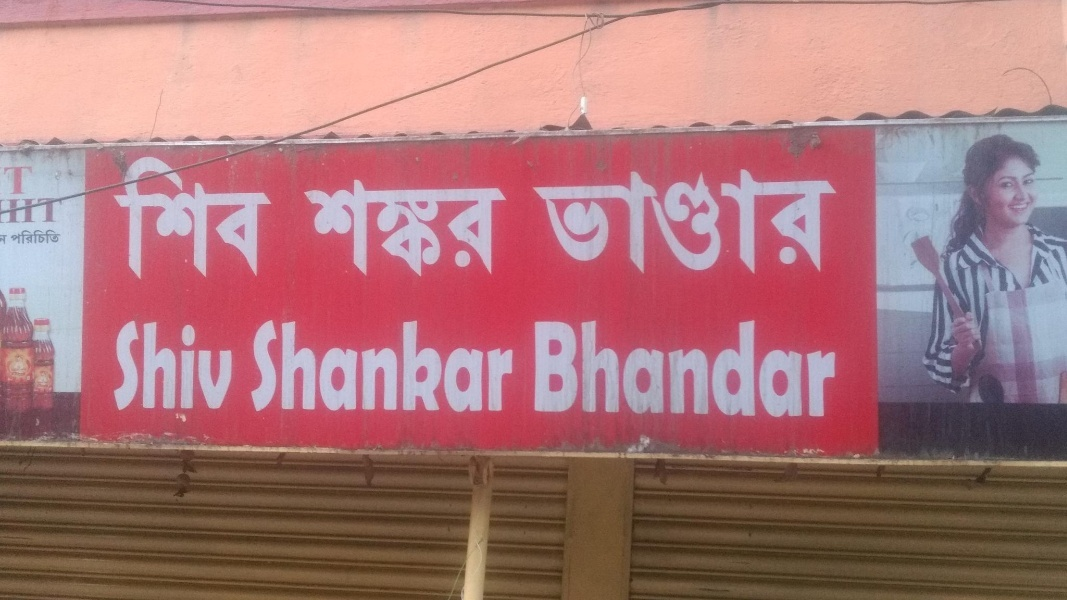text: (113, 151, 128, 282), (129, 151, 144, 282), (145, 151, 160, 282), (161, 151, 176, 282), (177, 151, 192, 282), (193, 151, 208, 282), (209, 151, 224, 282), (225, 151, 240, 282), (241, 151, 256, 282), (257, 151, 272, 282), (257, 297, 272, 417), (273, 297, 288, 417), (289, 297, 304, 417), (305, 297, 320, 417), (321, 297, 336, 417), (337, 297, 352, 417), (353, 297, 368, 417), (369, 297, 384, 417), (385, 297, 400, 417), (401, 297, 416, 417), (417, 297, 432, 417), (433, 297, 448, 417), (449, 297, 464, 417), (465, 297, 480, 417), (481, 297, 496, 417), (497, 297, 512, 417), (545, 165, 560, 281), (561, 165, 576, 281), (577, 165, 592, 281), (593, 165, 608, 281), (609, 165, 624, 281), (625, 165, 640, 281), (641, 165, 656, 281), (657, 165, 672, 281), (673, 165, 688, 281), (689, 165, 704, 281), (705, 165, 720, 281), (721, 165, 736, 281), (737, 165, 752, 281), (753, 165, 768, 281), (769, 165, 784, 281), (785, 165, 800, 281), (801, 165, 816, 281), (817, 165, 832, 281), (305, 171, 320, 283), (321, 171, 336, 283), (337, 171, 352, 283), (353, 171, 368, 283), (369, 171, 384, 283), (385, 171, 400, 283), (401, 171, 416, 283), (417, 171, 432, 283), (433, 171, 448, 283), (449, 171, 464, 283), (465, 171, 480, 283), (481, 171, 496, 283), (497, 171, 512, 283), (530, 165, 544, 281), (529, 314, 544, 421), (545, 314, 560, 421), (561, 314, 576, 421), (577, 314, 592, 421), (593, 314, 608, 421), (609, 314, 624, 421), (625, 314, 640, 421), (641, 314, 656, 421), (657, 314, 672, 421), (673, 314, 688, 421), (689, 314, 704, 421), (705, 314, 720, 421), (721, 314, 736, 421), (737, 314, 752, 421), (753, 314, 768, 421), (769, 314, 784, 421), (785, 314, 800, 421), (801, 314, 816, 421), (817, 314, 832, 421), (833, 314, 848, 421), (129, 316, 144, 419), (145, 316, 160, 419), (161, 316, 176, 419), (177, 316, 192, 419), (193, 316, 208, 419), (209, 316, 224, 419), (116, 316, 128, 419), (225, 316, 235, 419), (833, 165, 841, 281), (252, 297, 256, 417), (513, 297, 517, 417), (1, 164, 16, 195), (17, 164, 32, 195), (513, 171, 517, 283), (17, 197, 32, 224), (33, 197, 48, 224), (2, 197, 16, 224), (49, 197, 63, 224), (301, 171, 304, 283), (525, 314, 528, 421), (49, 229, 65, 249), (17, 229, 32, 249), (33, 229, 48, 249), (1, 232, 16, 248), (849, 314, 851, 421), (8, 229, 16, 249), (33, 164, 37, 195)
